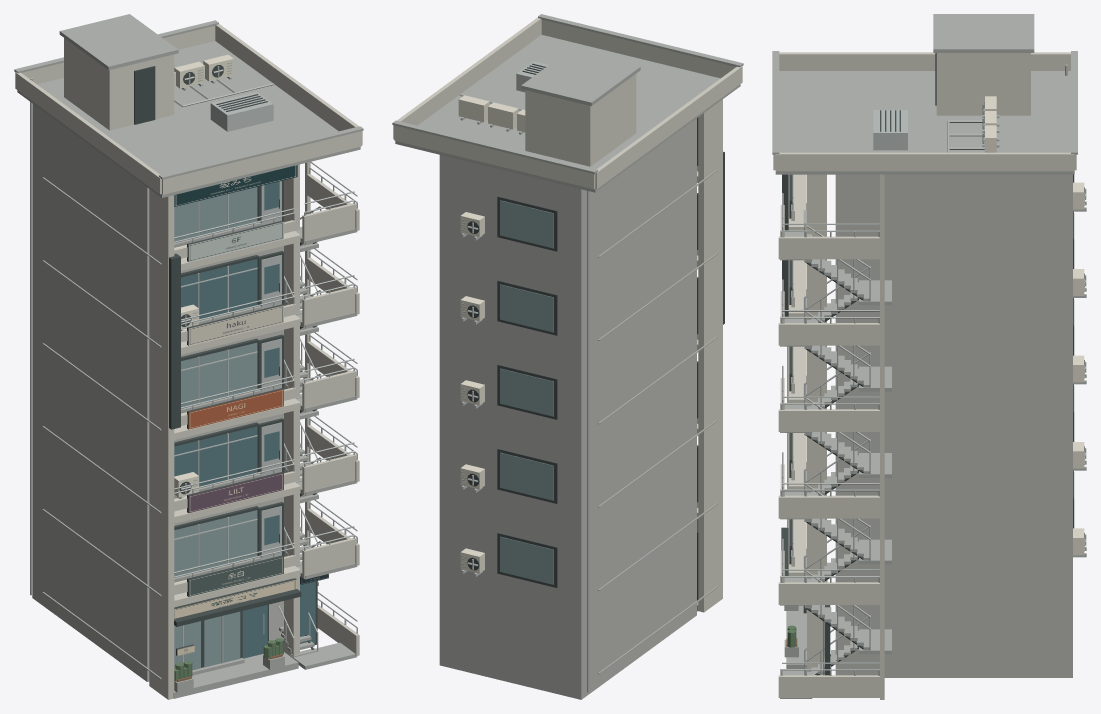
File: dogenzaka-sakamichi-a.glb
3 renders of one model, left to right at view 1: azimuth 30°, elevation 25°; view 2: azimuth 150°, elevation 25°; view 3: azimuth 270°, elevation 25°, orthographic. The views are drawn at different scales.
Visible parts, largest first — view 1: dogenzaka-sakamichi-a; view 2: dogenzaka-sakamichi-a; view 3: dogenzaka-sakamichi-a.
Boxes of the visible parts, x1=… form: dogenzaka-sakamichi-a: x1=14, y1=14, x2=363, y2=699; dogenzaka-sakamichi-a: x1=392, y1=14, x2=743, y2=699; dogenzaka-sakamichi-a: x1=772, y1=14, x2=1086, y2=699.
Bounding box in the file's own units: 8.34 × 22.74 × 10.85.
11 materials, 1 textured.
